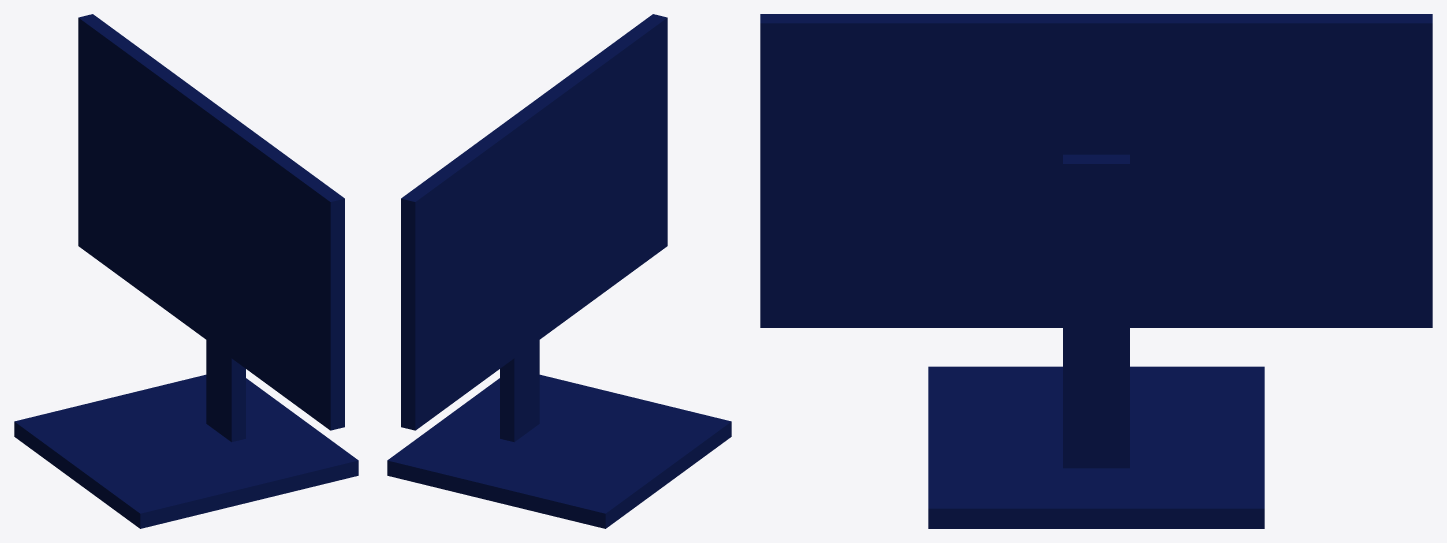
File: Monitor.obj
3 renders of one model, left to right at view 1: azimuth 30°, elevation 25°; view 2: azimuth 150°, elevation 25°; view 3: azimuth 270°, elevation 25°, orthographic. The views are drawn at different scales.
Visible parts, largest first — view 1: group1 pCube2, pCube1 group1, group1 pCube3; view 2: group1 pCube2, pCube1 group1, group1 pCube3; view 3: group1 pCube2, pCube1 group1, group1 pCube3.
Boxes of the visible parts, x1,y1,x2,y2 form: group1 pCube2: [78, 14, 344, 430]; pCube1 group1: [14, 374, 358, 528]; group1 pCube3: [206, 340, 245, 442]; group1 pCube2: [401, 14, 667, 430]; pCube1 group1: [387, 374, 731, 528]; group1 pCube3: [500, 340, 539, 442]; group1 pCube2: [760, 14, 1432, 327]; pCube1 group1: [928, 366, 1264, 528]; group1 pCube3: [1063, 154, 1129, 468].
Size of the model in its own units: 0.3 by 0.4489 by 0.6.
